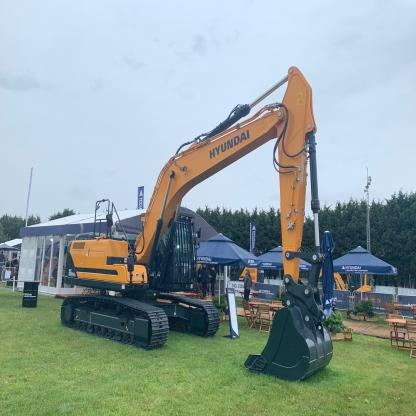excavator: (41, 50, 357, 398)
